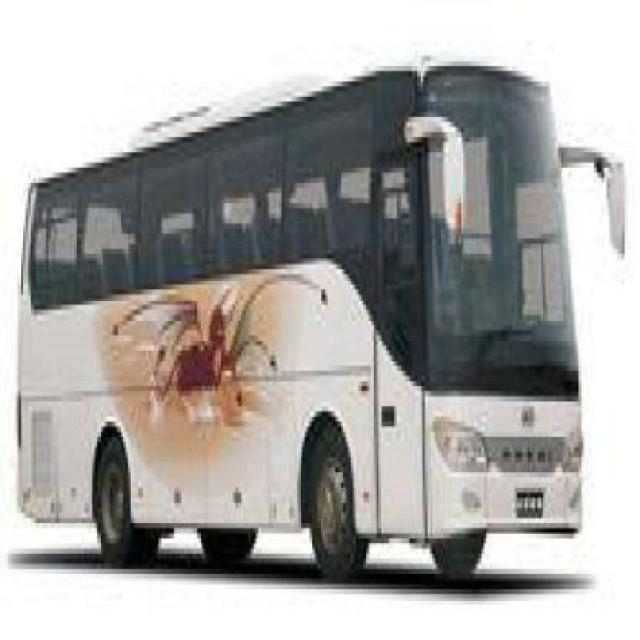bus: (19, 58, 624, 580)
